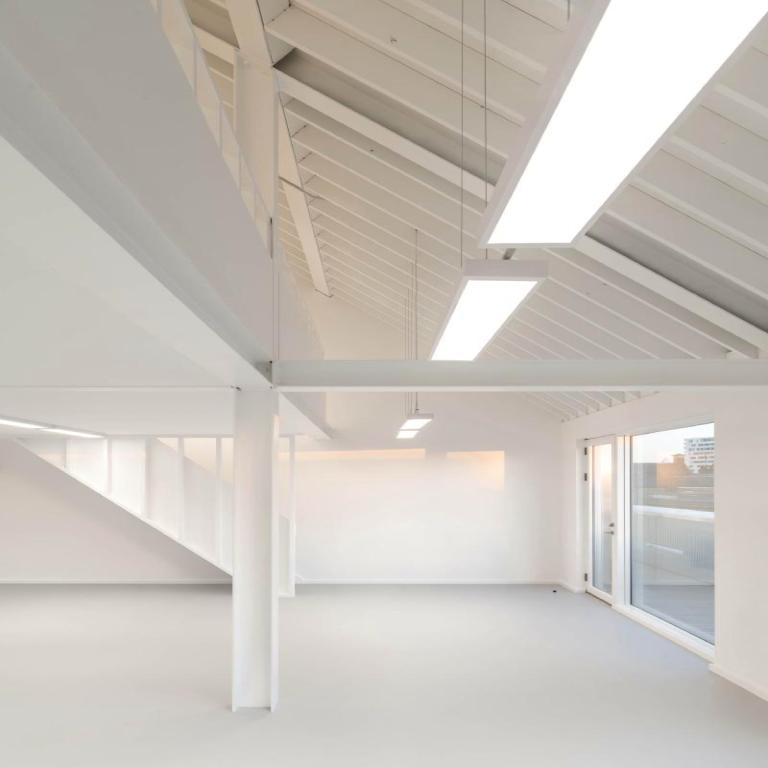white-walls: (312, 470, 562, 571)
